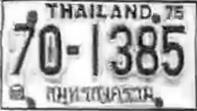0: (39, 23, 63, 74)
1: (90, 22, 98, 76)
3: (108, 24, 132, 76)
5: (161, 24, 185, 77)
7: (11, 20, 38, 75)
8: (135, 24, 158, 76)
SKM: (41, 82, 157, 106)
